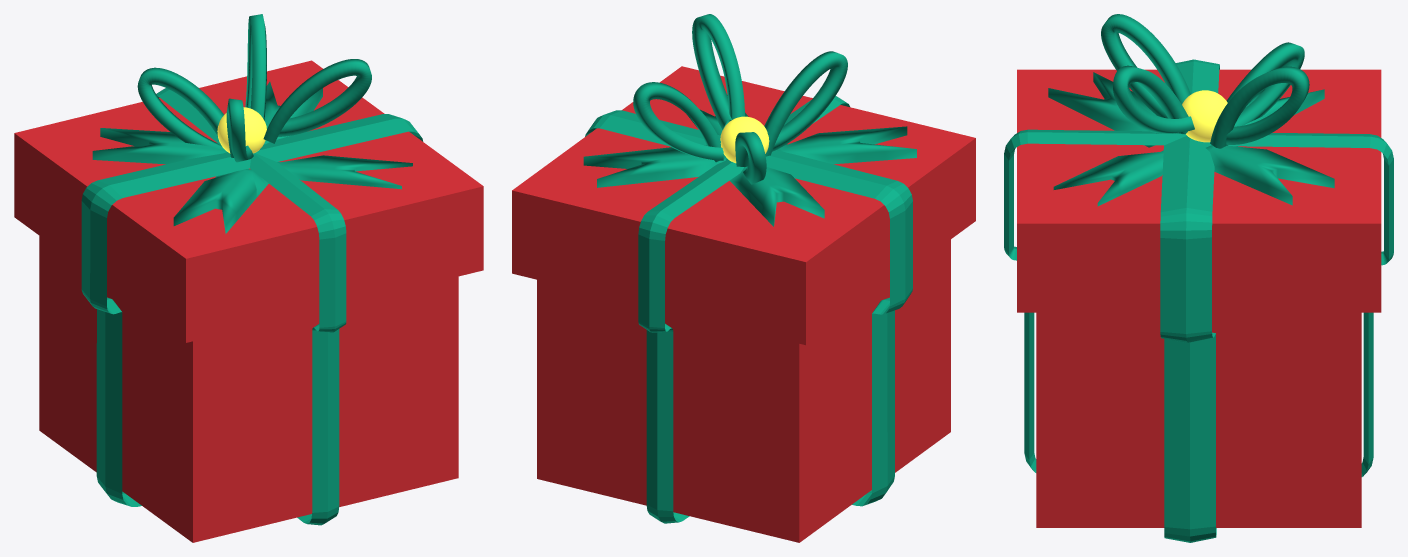
File: presents.gltf
3 renders of one model, left to right at view 1: azimuth 30°, elevation 25°; view 2: azimuth 150°, elevation 25°; view 3: azimuth 270°, elevation 25°, orthographic. The views are drawn at different scales.
Parts seen in each view (by area): view 1: Cube.002, Cube.004, Cube.003, NurbsPath.006, NurbsPath.007, Plane.002, Plane.003, Plane.005, NurbsPath, NurbsPath.003, Sphere.001, Plane.004; view 2: Cube.002, Cube.004, Cube.003, NurbsPath.003, NurbsPath.006, Plane.003, Plane.004, NurbsPath, Plane.002, NurbsPath.007, Sphere.001; view 3: Cube.002, Cube.004, Cube.003, Plane.004, NurbsPath, NurbsPath.003, NurbsPath.006, Plane.005, Plane.003, NurbsPath.007, Sphere.001, Plane.002.
Boxes of the visible parts, bbox=[...] form: Cube.002: bbox=[14, 60, 483, 542]; Cube.004: bbox=[81, 114, 423, 506]; Cube.003: bbox=[156, 88, 346, 525]; NurbsPath.006: bbox=[263, 59, 371, 143]; NurbsPath.007: bbox=[137, 67, 226, 151]; Plane.002: bbox=[92, 128, 227, 164]; Plane.003: bbox=[173, 169, 268, 233]; Plane.005: bbox=[277, 155, 412, 189]; NurbsPath: bbox=[245, 14, 266, 120]; NurbsPath.003: bbox=[226, 98, 253, 162]; Sphere.001: bbox=[217, 107, 266, 153]; Plane.004: bbox=[264, 81, 322, 144]; Cube.002: bbox=[512, 66, 975, 542]; Cube.004: bbox=[585, 110, 912, 506]; Cube.003: bbox=[638, 96, 849, 523]; NurbsPath.003: bbox=[764, 51, 847, 156]; NurbsPath.006: bbox=[692, 14, 744, 129]; Plane.003: bbox=[777, 126, 916, 164]; Plane.004: bbox=[583, 147, 725, 187]; NurbsPath: bbox=[633, 82, 726, 162]; Plane.002: bbox=[729, 166, 824, 226]; NurbsPath.007: bbox=[735, 132, 766, 184]; Sphere.001: bbox=[720, 116, 769, 163]; Cube.002: bbox=[1017, 69, 1381, 527]; Cube.004: bbox=[1160, 59, 1219, 542]; Cube.003: bbox=[1004, 129, 1393, 476]; Plane.004: bbox=[1206, 145, 1334, 205]; NurbsPath: bbox=[1210, 66, 1309, 148]; NurbsPath.003: bbox=[1101, 14, 1190, 118]; NurbsPath.006: bbox=[1113, 65, 1194, 134]; Plane.005: bbox=[1053, 150, 1163, 206]; Plane.003: bbox=[1048, 72, 1156, 147]; NurbsPath.007: bbox=[1226, 42, 1304, 126]; Sphere.001: bbox=[1182, 90, 1227, 142]; Plane.002: bbox=[1243, 89, 1324, 125].
Bounding box in the file's own units: 0.5138 × 0.6387 × 0.5092.
